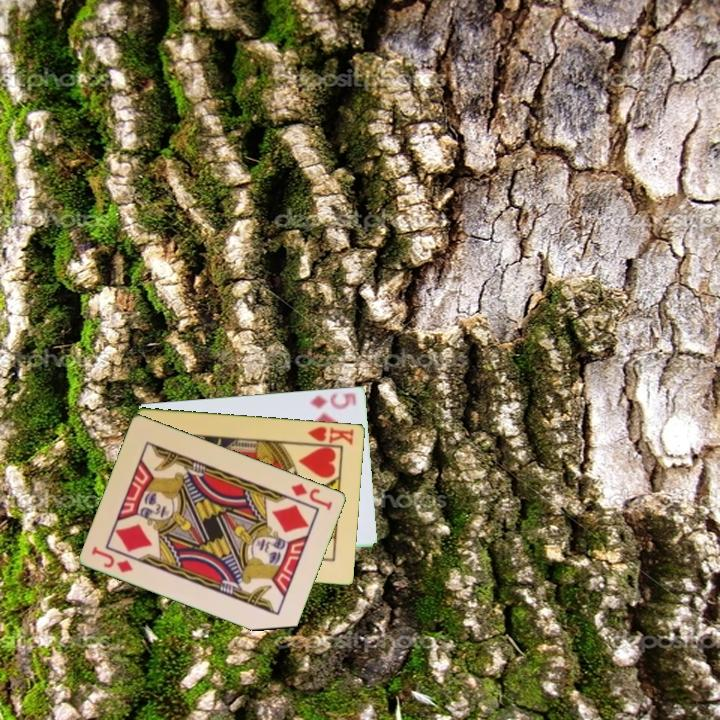5d: (307, 389, 360, 412)
Jd: (288, 479, 336, 513), (88, 542, 136, 575)
Kh: (301, 423, 357, 449)
